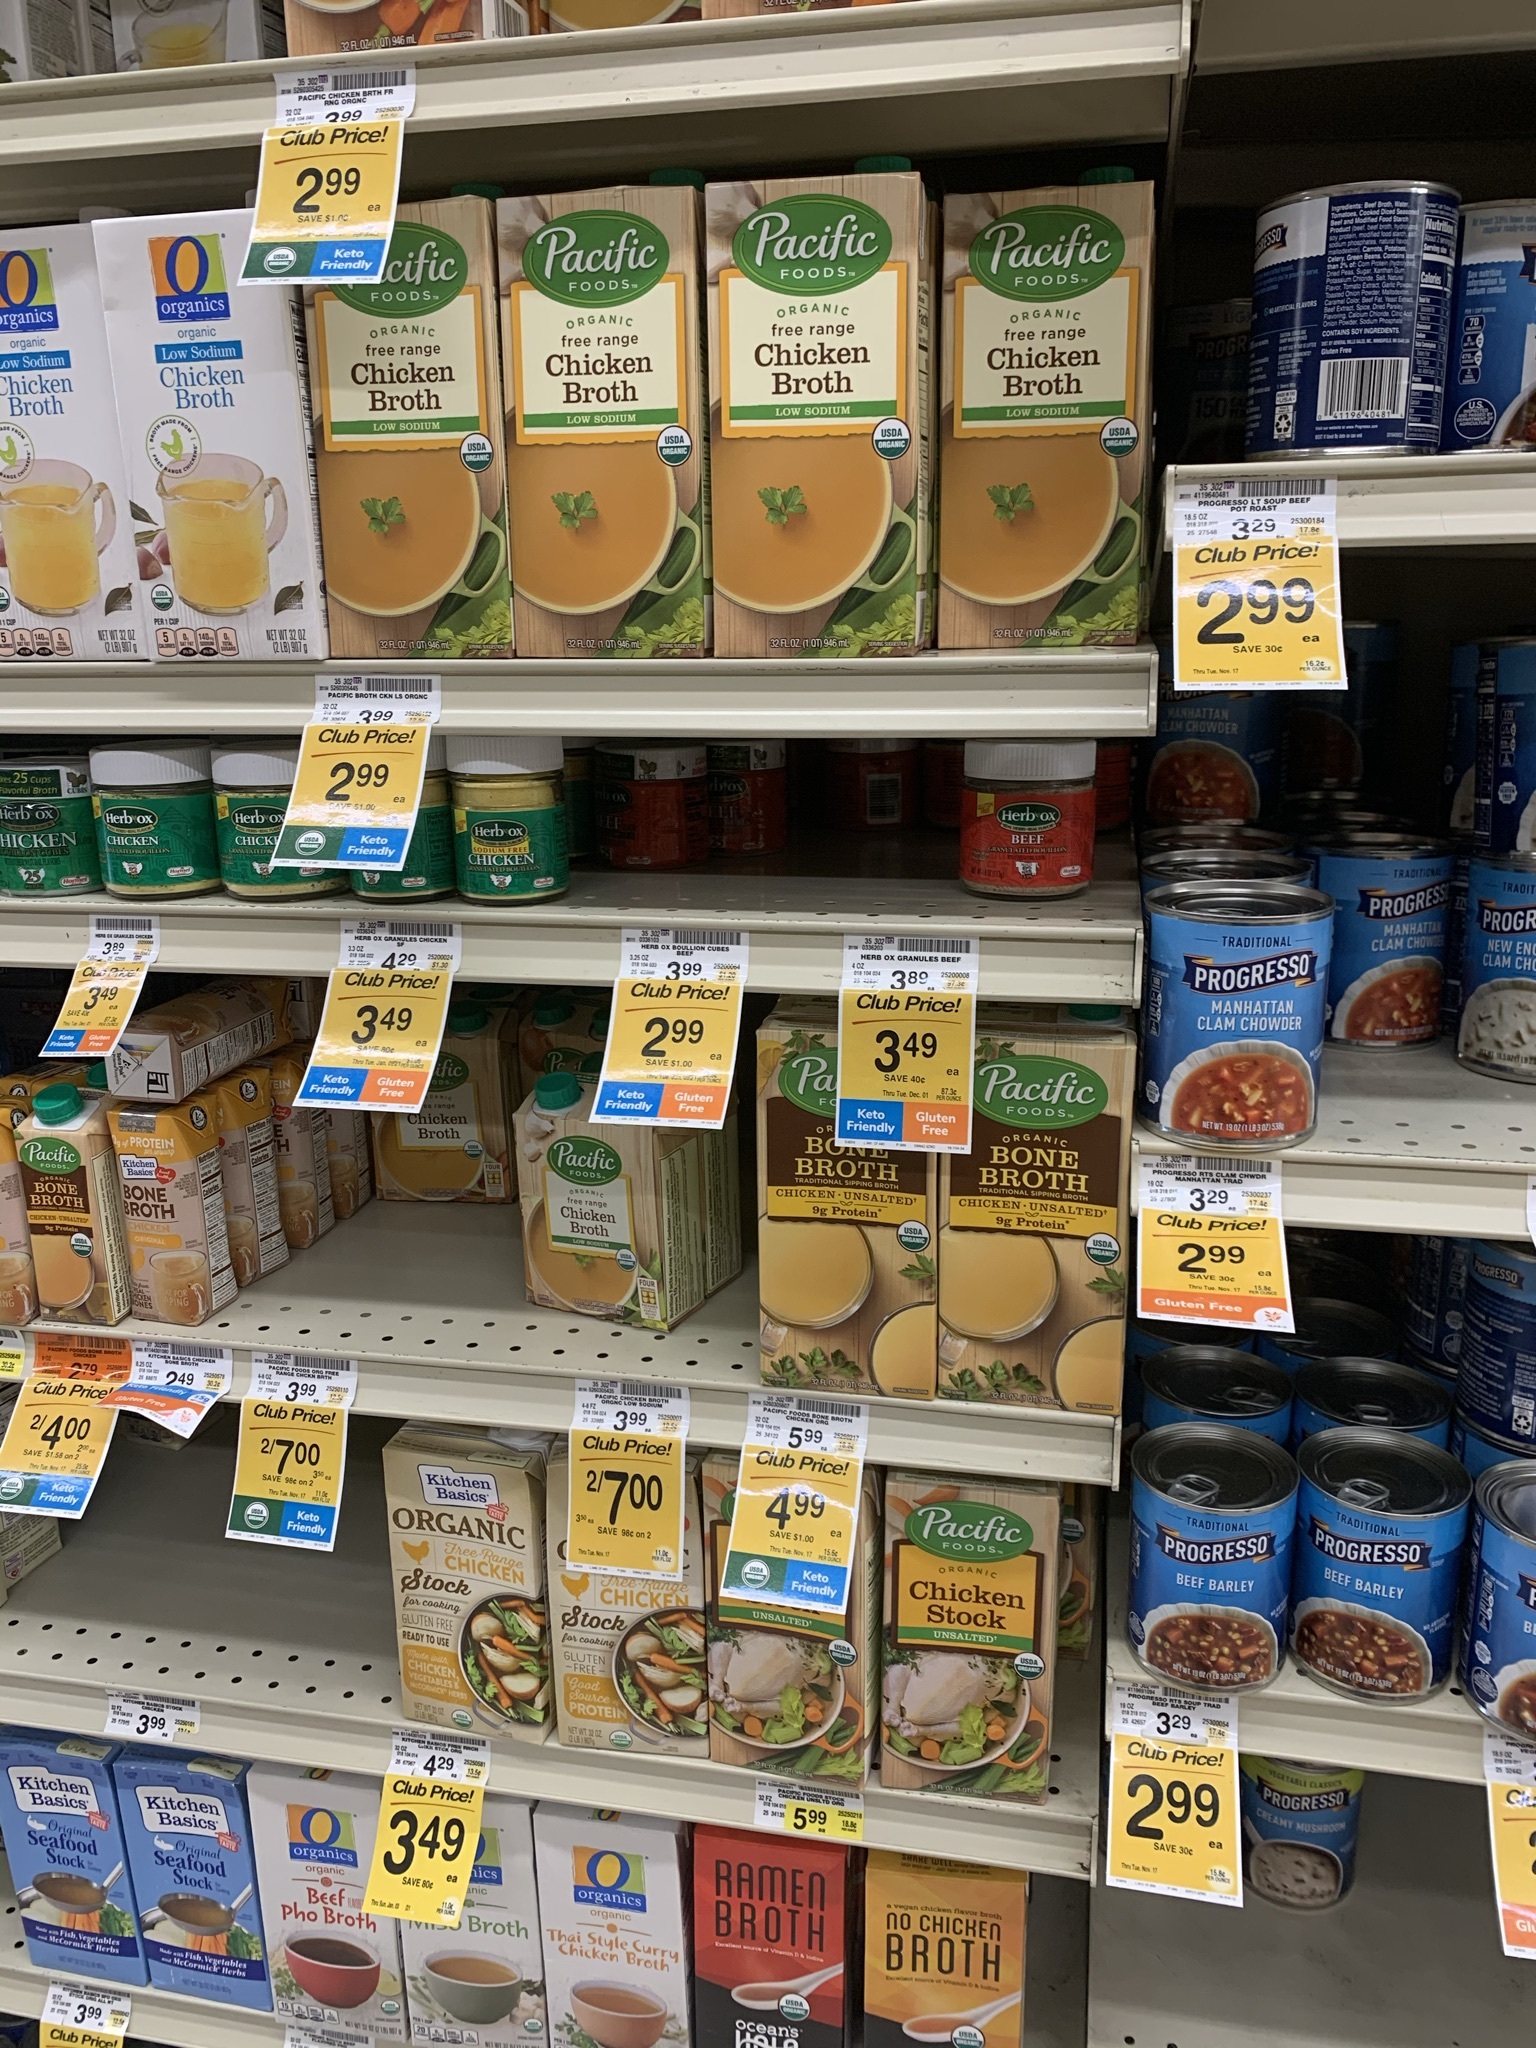box: (707, 171, 926, 656), (94, 211, 319, 663), (937, 182, 1149, 655), (494, 185, 705, 655), (305, 195, 508, 663), (753, 1030, 941, 1393), (952, 1042, 1128, 1411), (881, 1467, 1058, 1796), (700, 1455, 870, 1780), (379, 1438, 545, 1734), (545, 1450, 703, 1751), (511, 1109, 660, 1334)
can: (1246, 171, 1460, 455), (1149, 905, 1317, 1130), (1313, 1480, 1462, 1698), (1126, 1492, 1275, 1680), (1341, 874, 1434, 1034), (1480, 898, 1536, 1056)
